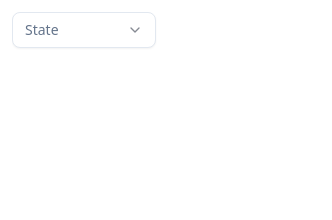
FilterBar › stays open across selections
The image size is (332, 220).
# Radix opens on pointerdown, which jsdom does not synthesise from a click.
Press Enter in the button with test id "state-filter", box 12,12 -> 156,48
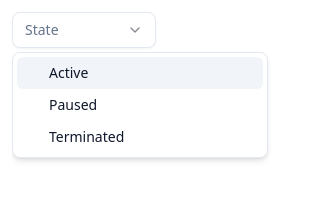
Click the menu item "Active" at (140, 73), box 17,57 -> 263,89
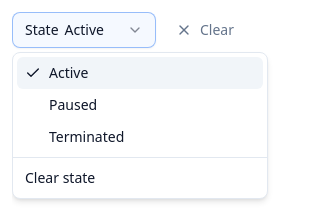
Result: the menu is shown at 12,52 -> 268,199
Click the menu item "Paused" at (73, 104), box 49,95 -> 97,114
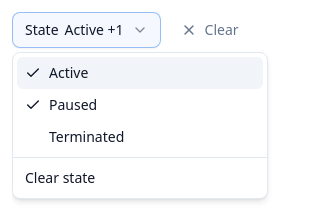
Result: the button with test id "state-filter" shows "+1" at 12,12 -> 160,48
